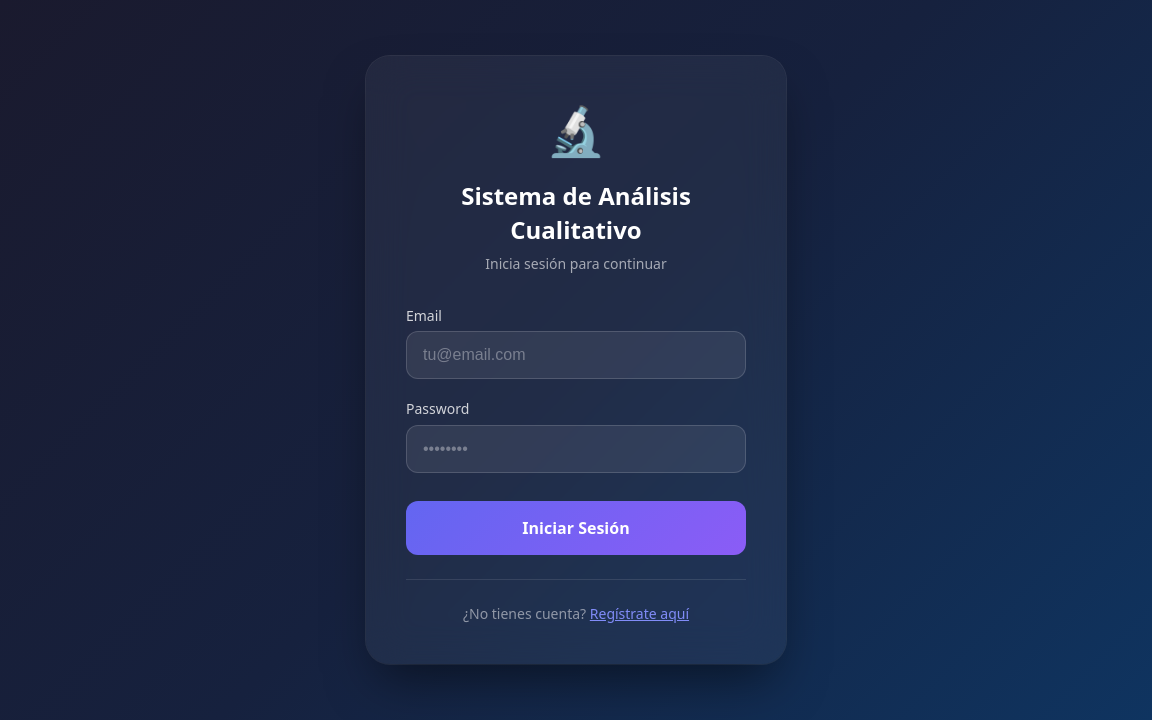
Test case: AuthPage › validates form and shows errors
The width and height of the screenshot is (1152, 720).
Click the button "Iniciar Sesión" at (576, 528), box 406,501 -> 746,556
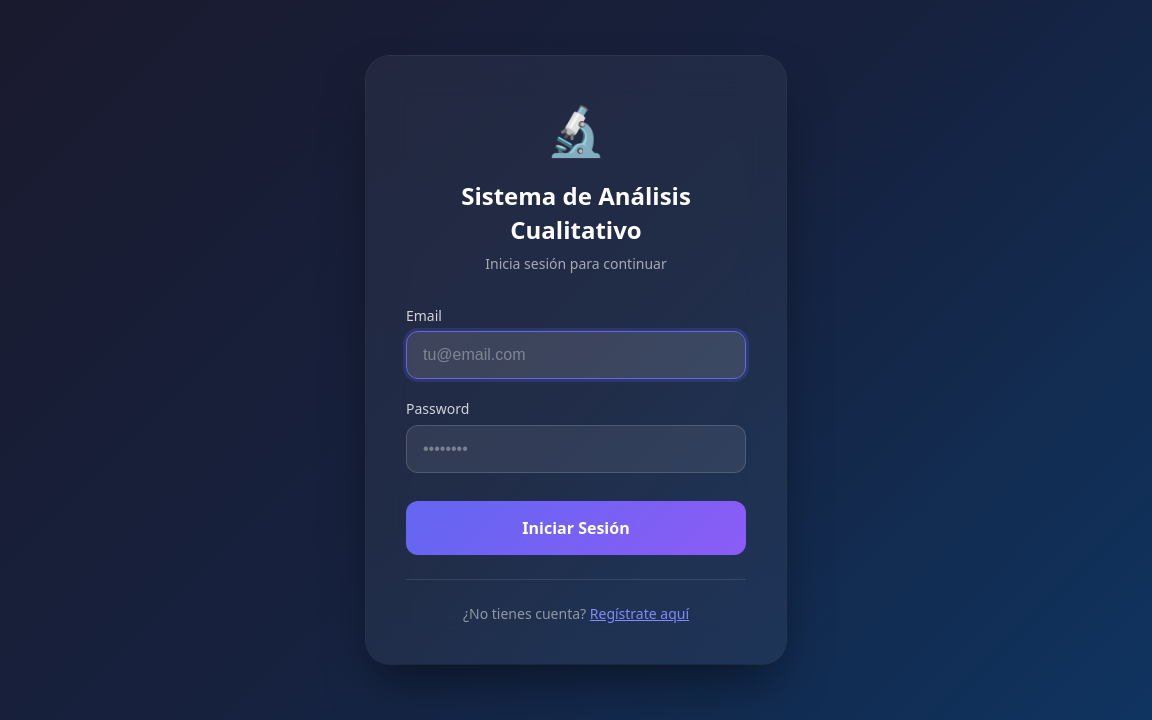
Submit the form, box 406,306 -> 746,556
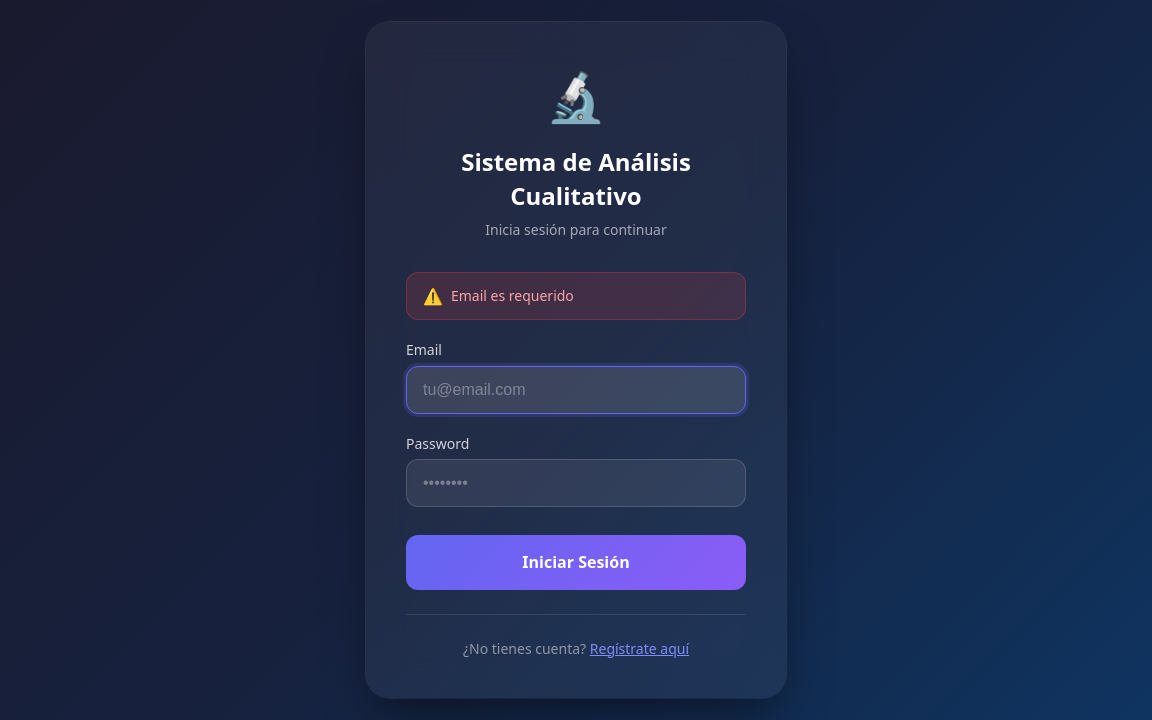
expect the text "⚠️ Email es requerido" is shown: met, box 406,272 -> 746,320
